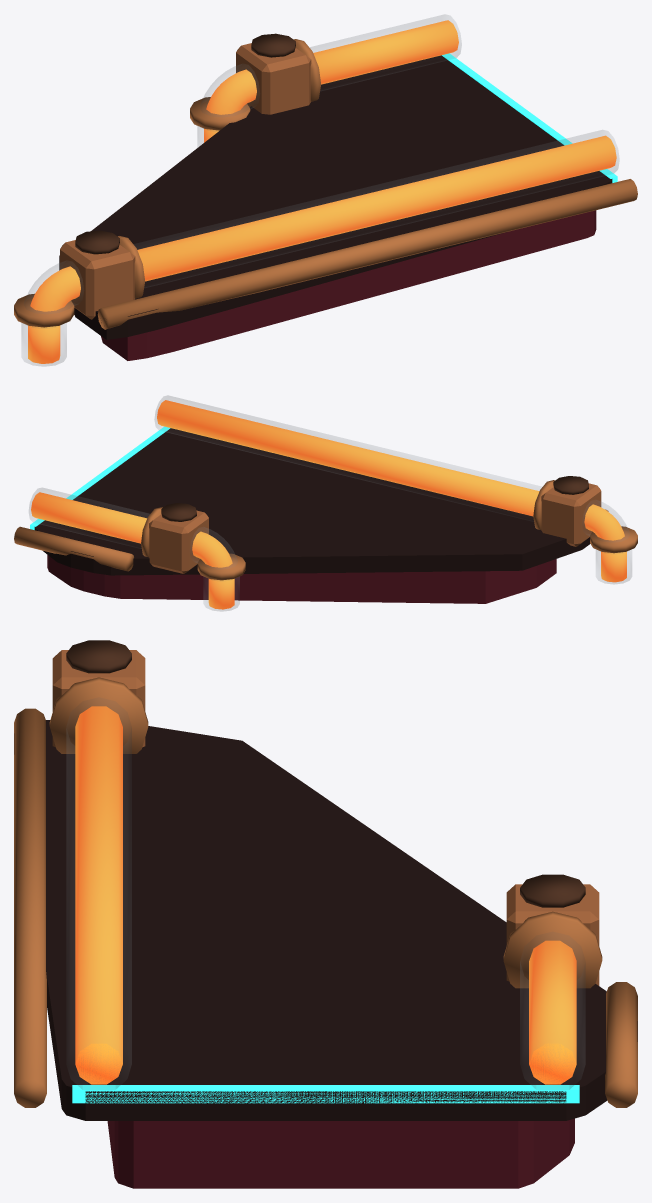
File: Pier_Angled_70.glb
The picture shows the model from 3 angles, top to bottom: view 1: azimuth 30°, elevation 25°; view 2: azimuth 150°, elevation 25°; view 3: azimuth 270°, elevation 25°; orthographic projection. The views are drawn at different scales.
Visible parts, largest first — view 1: CP_Pier_Angled_70; view 2: CP_Pier_Angled_70; view 3: CP_Pier_Angled_70.
Part boxes in pixels (x1=…): CP_Pier_Angled_70: x1=14, y1=14, x2=637, y2=366; CP_Pier_Angled_70: x1=14, y1=395, x2=637, y2=611; CP_Pier_Angled_70: x1=14, y1=640, x2=637, y2=1188.
Bounding box in the file's own units: 6.57 × 1.31 × 4.18.
